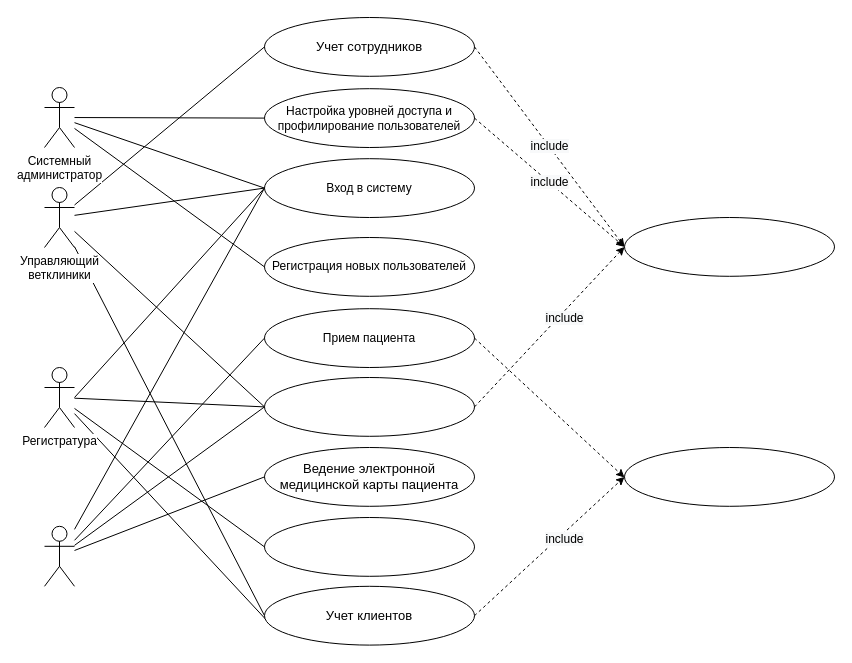
Some shapes in this 852 by 663 pixel diagram are drawn without their labels. Here are the shapes that lost their labels. From the top down, the centre of each, then its label:
At (x=729, y=246): "Просмотр информации о сотрудниках".
At (x=369, y=406): "Просмотр расписания работы специалистов и кабинетов клиники".
At (x=729, y=476): "Просмотр информации о клиентах".
At (x=59, y=555): "Ветеринар".
At (x=369, y=546): "Регистрация новых клиентов".
